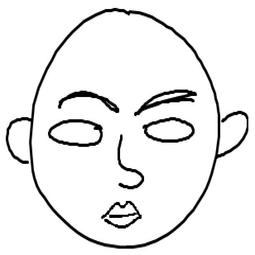cupid_mouth: (98, 196, 147, 233)
ear: (209, 109, 252, 159), (3, 114, 41, 169)
empty_eye: (48, 114, 108, 151), (138, 117, 203, 146)
eyebrow: (131, 85, 203, 114), (55, 87, 121, 116)
nose: (108, 132, 145, 190)
